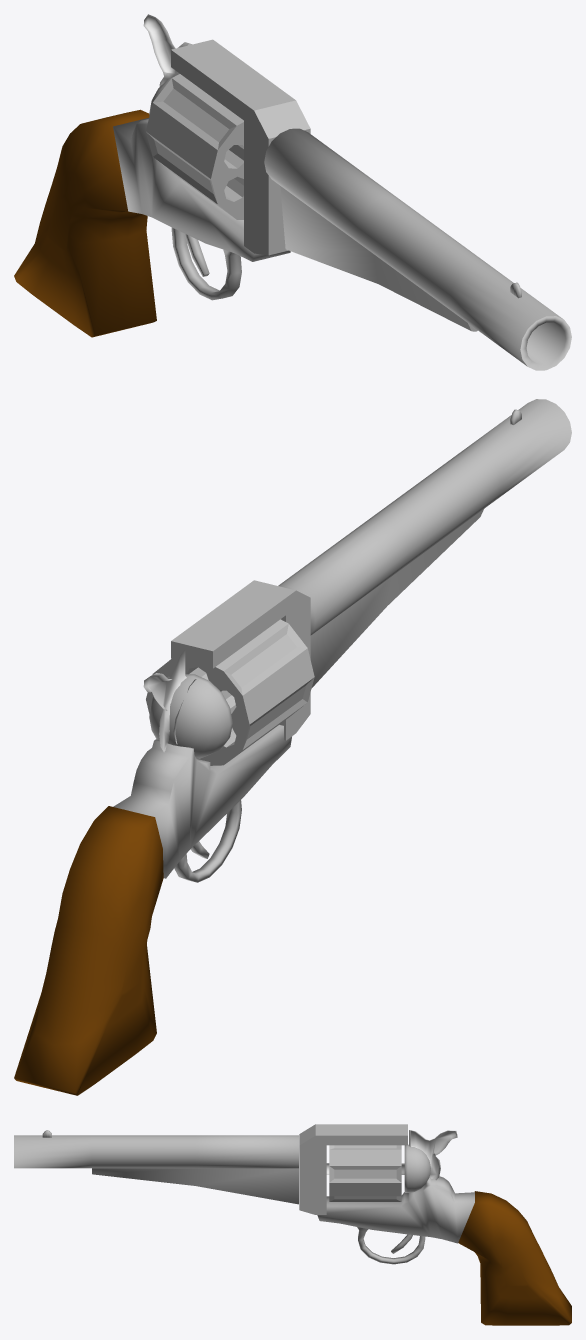
The model's file is GUN.glb.
3 renders of one model, top to bottom at view 1: azimuth 30°, elevation 25°; view 2: azimuth 150°, elevation 25°; view 3: azimuth 270°, elevation 25°, orthographic. The views are drawn at different scales.
Parts seen in each view (by area): view 1: Cylinder; view 2: Cylinder; view 3: Cylinder.
Part boxes in pixels (x1,y1,x2,y2): Cylinder: (14, 14, 571, 370); Cylinder: (14, 399, 571, 1095); Cylinder: (14, 1124, 571, 1325).
Size of the model in its own units: 0.1825 by 0.5661 by 1.53.
